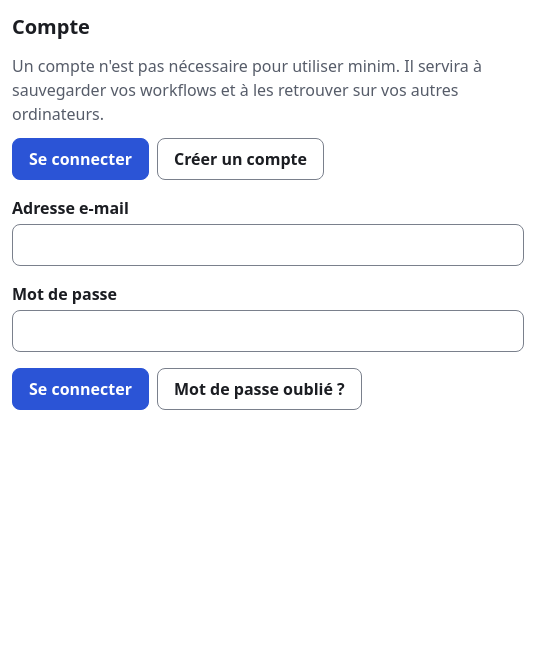
Test: AccountPanel › declares a health profession at sign-up
This screenshot has width=544, height=648.
Click the button "Créer un compte" at point(240, 159), box [157,138,324,180]
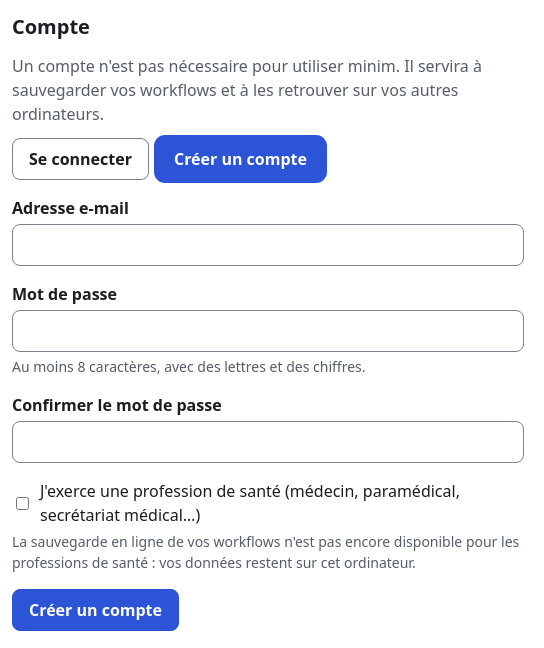
Type "dr@example.com" into the field labelled "Adresse e-mail" at point(268, 245), box [12,224,524,266]
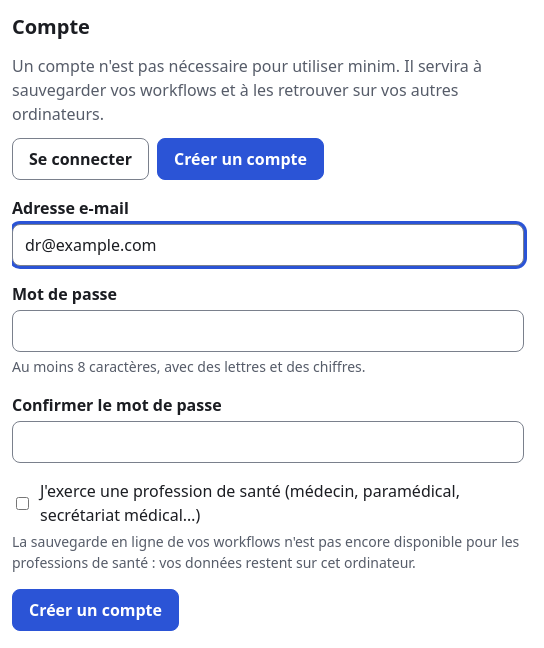
Type "longmotdepasse1" into the password field labelled "Mot de passe" at point(268, 331), box [12,310,524,352]
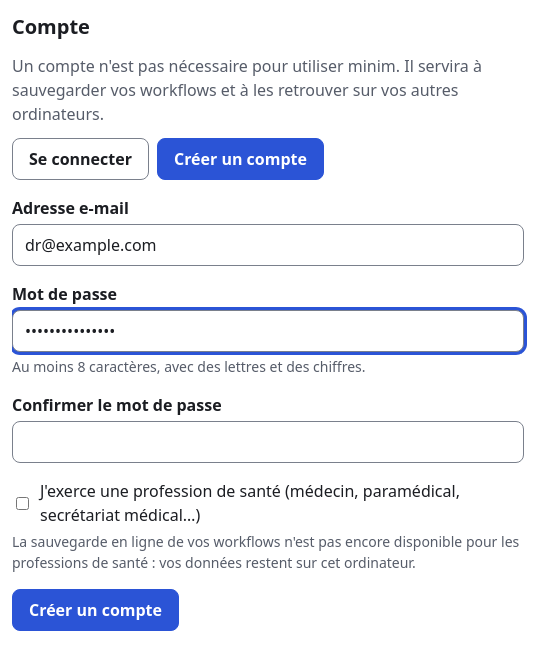
Type "longmotdepasse1" into the password field labelled "Confirmer le mot de passe" at point(268, 442), box [12,421,524,463]
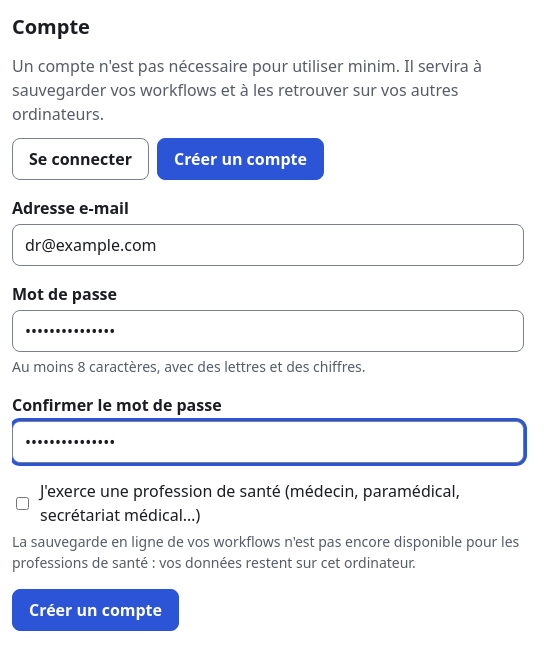
Click the checkbox labelled "profession de santé" at point(22, 503), box [16,496,29,510]
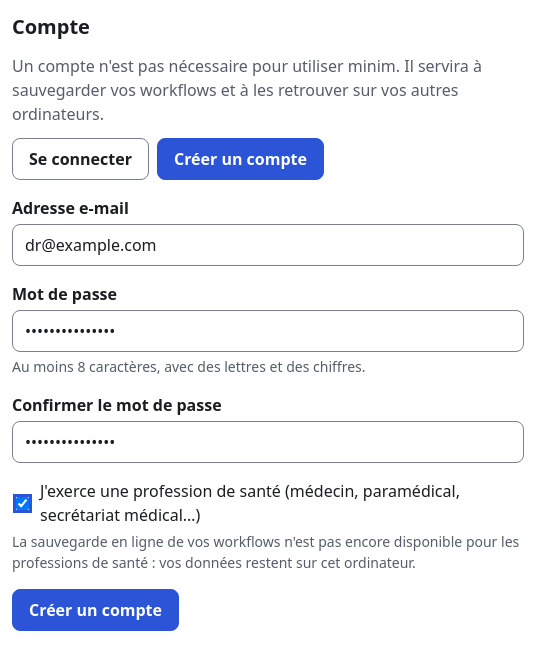
Click the button "Créer un compte" below "Confirmer le mot de passe" at point(96, 610), box [12,589,179,631]
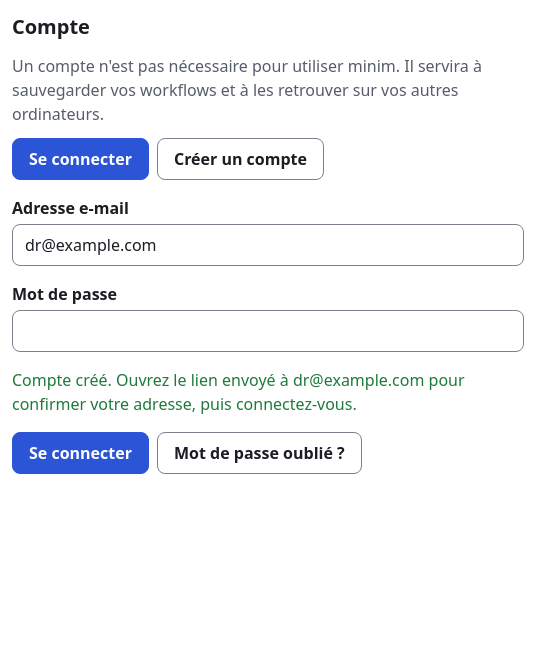
Now the text "Ouvrez le lien" is shown, box [12,369,465,415]
